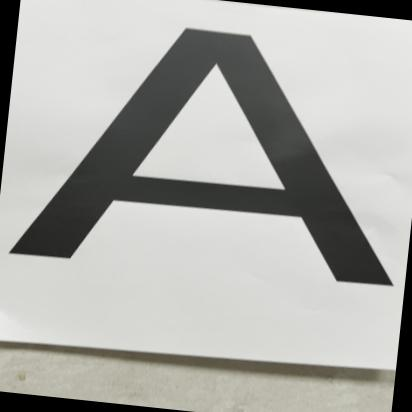seat: (1, 0, 412, 317)
